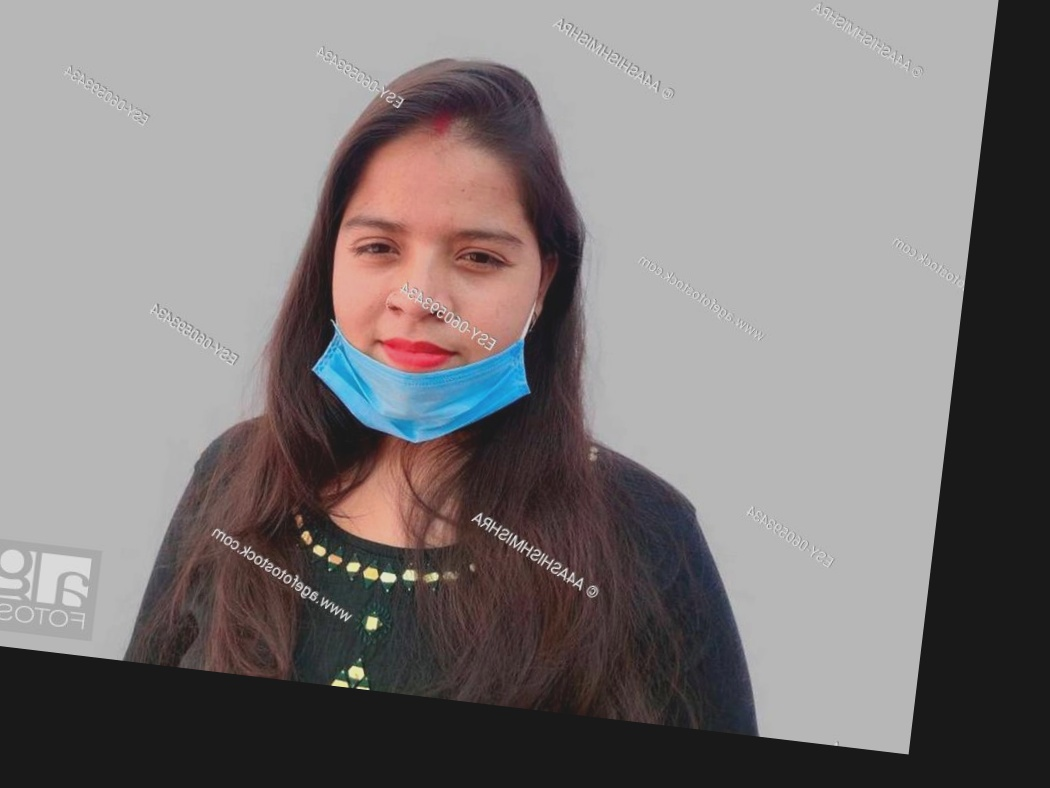mask_weared_incorrect: (328, 111, 543, 445)
